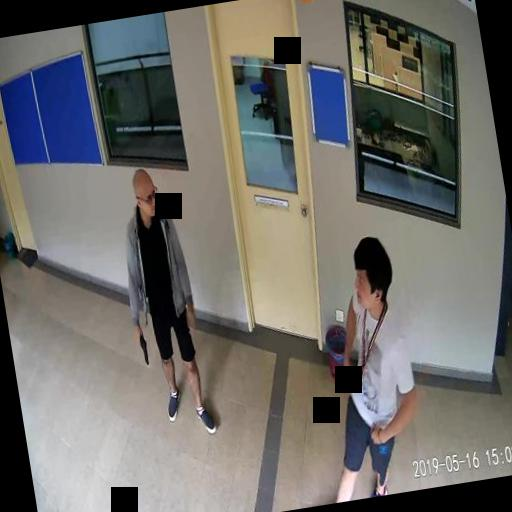Handgun: (134, 330, 148, 364)
